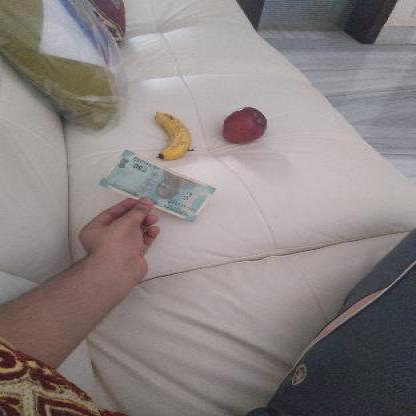New50Front: (99, 151, 217, 217)
